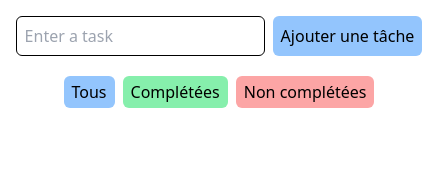
Test: App Component › Devrait pouvoir ajouter une nouvelle tâche
Type "Nouvelle tâche" into the field with test id "task-input" at (141, 36), box [16, 16, 265, 56]
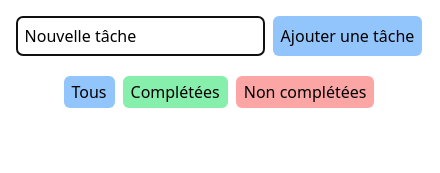
Click the button with test id "add-task-btn" at (348, 36), box [273, 16, 423, 56]
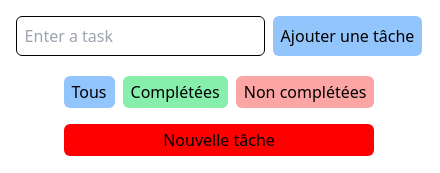
Expected: the number of buttons with test id "task-item" is 1, [64, 124, 375, 156]
